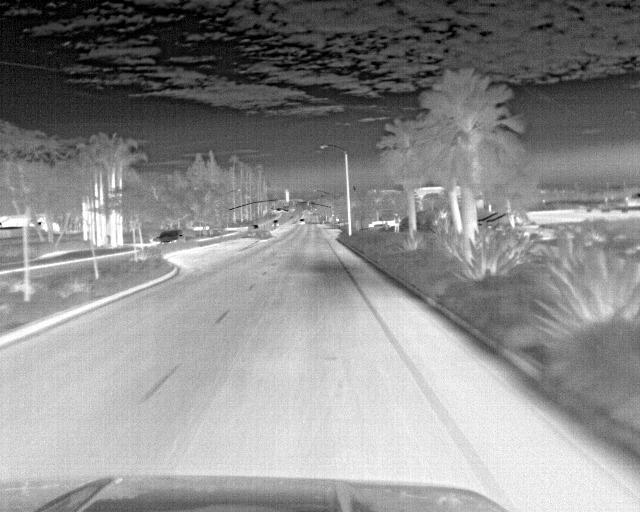car: (153, 232, 184, 247)
